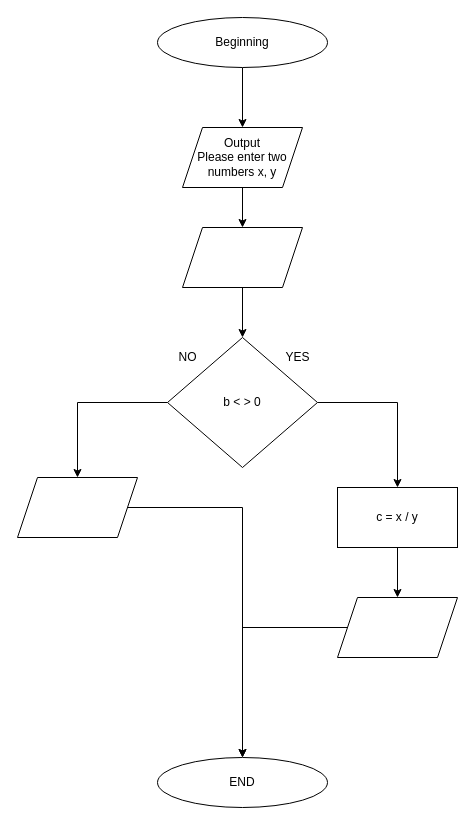
Some shapes in this 475 by 825 pixel diagram are drawn without their labels. Here are the shapes that lost their labels. From the top down, the centre of each, then its label:
point (242, 257): Input x, y
point (77, 507): Output c = undefined
point (397, 627): Output c =
